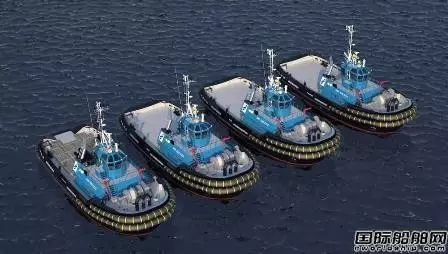otherboat: (34, 100, 179, 234), (201, 55, 343, 168), (117, 90, 262, 197), (276, 42, 418, 135)
